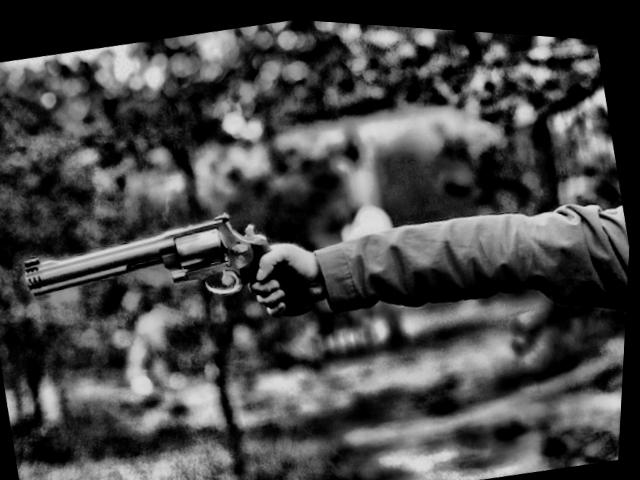pistol: (17, 186, 309, 367)
